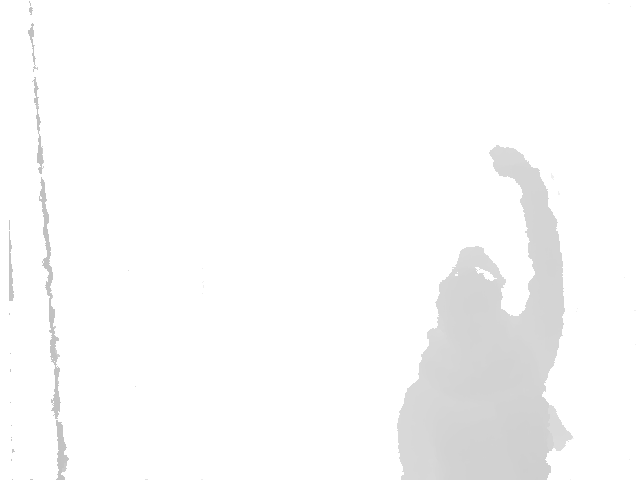hand: (488, 143, 546, 189)
head: (434, 244, 509, 332)
person: (391, 142, 574, 479)
